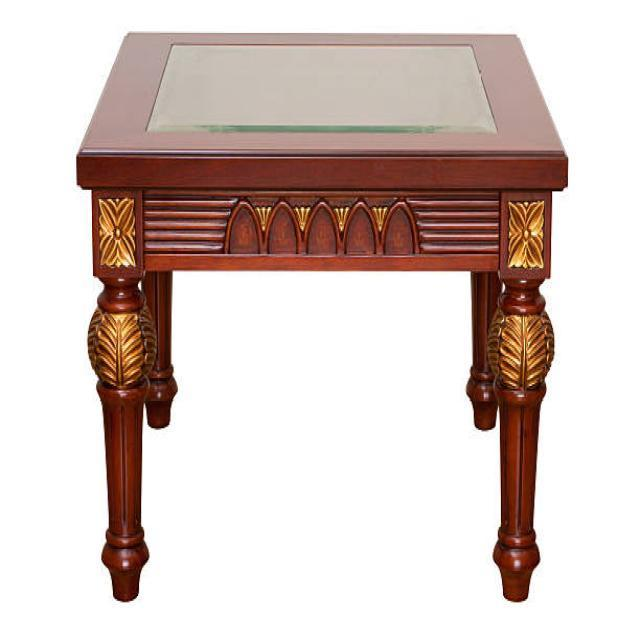table: (75, 28, 569, 604)
